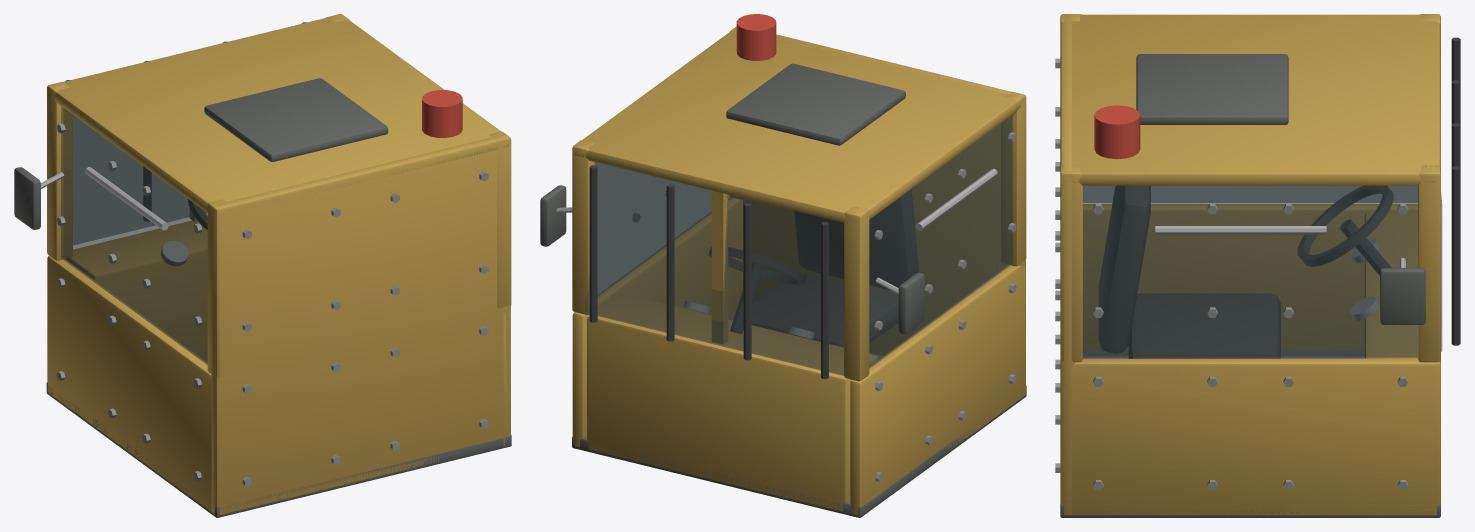
The model's file is cab.glb.
The picture shows the model from 3 angles, left to right: view 1: azimuth 30°, elevation 25°; view 2: azimuth 150°, elevation 25°; view 3: azimuth 270°, elevation 25°; orthographic projection. The views are drawn at different scales.
Parts seen in each view (by area): view 1: Part; view 2: Part; view 3: Part.
Boxes of the visible parts, left/top/right/bottom form: Part: left=14, top=14, right=511, bottom=517; Part: left=540, top=14, right=1026, bottom=517; Part: left=1055, top=14, right=1460, bottom=517.
Bounding box in the file's own units: 1.27 × 1.11 × 1.07.
